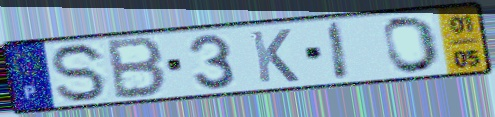3: (185, 31, 240, 91)
B: (106, 35, 169, 101)
I: (326, 19, 353, 82)
K: (247, 27, 302, 85)
O: (381, 14, 443, 75)
S: (49, 41, 111, 105)
